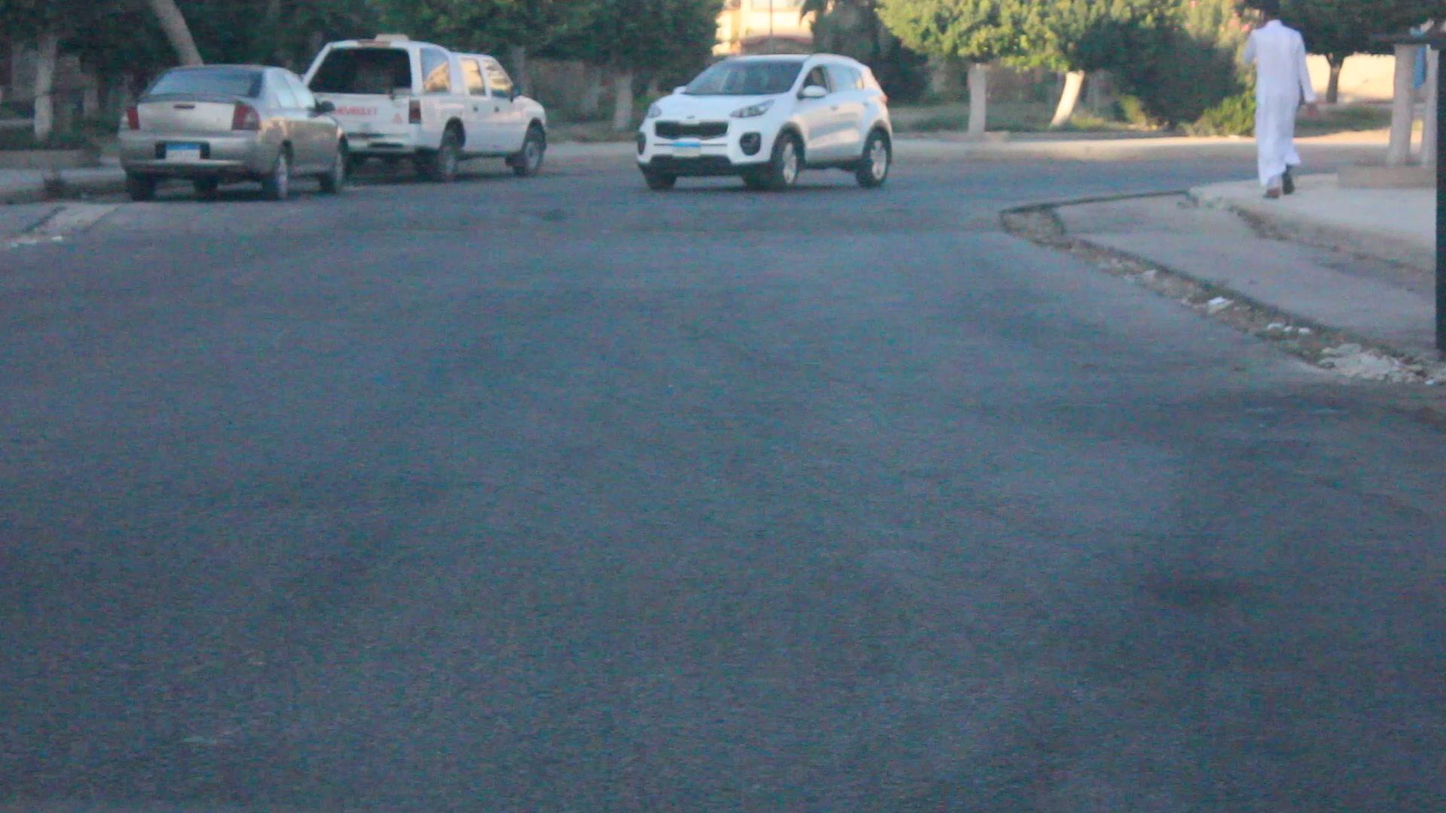Bump: (31, 188, 1027, 246)
